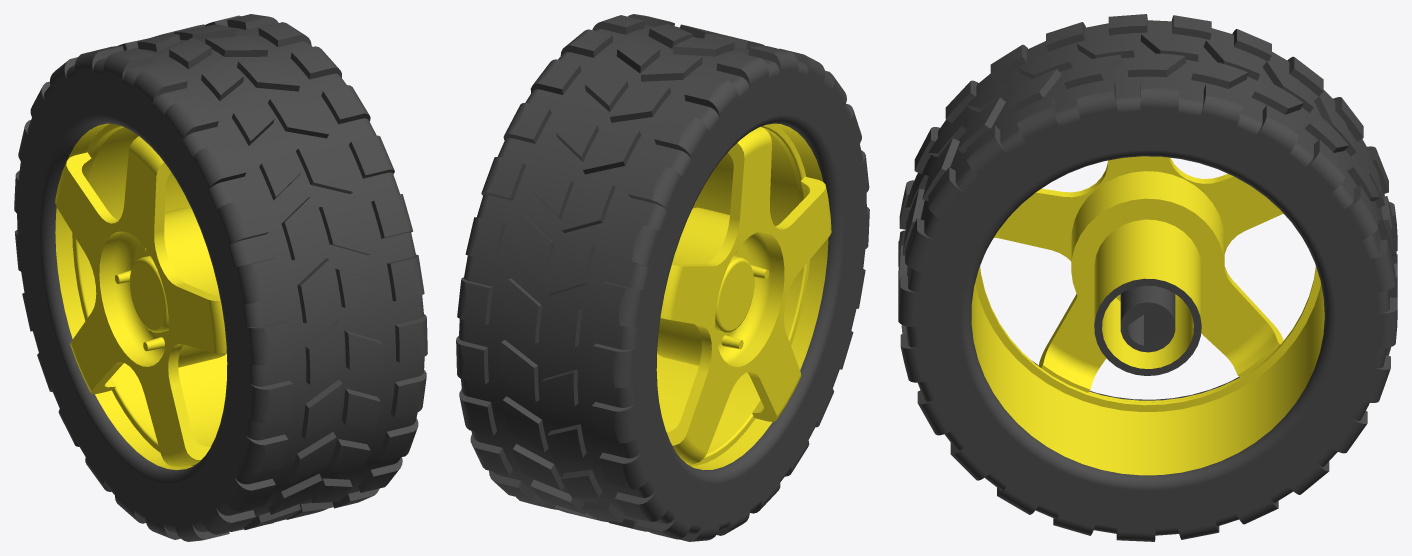
File: body2_visual.obj
3 views of the same model, side by side, from view 1: azimuth 30°, elevation 25°; view 2: azimuth 150°, elevation 25°; view 3: azimuth 270°, elevation 25° (orthographic).
Parts seen in each view (by area): view 1: Body2; view 2: Body2; view 3: Body2.
Part boxes in pixels (left/top/right/bottom): Body2: left=14, top=14, right=427, bottom=541; Body2: left=456, top=14, right=869, bottom=541; Body2: left=898, top=14, right=1397, bottom=541.
Size of the model in its own units: 2.82 by 6.5 by 6.5.
